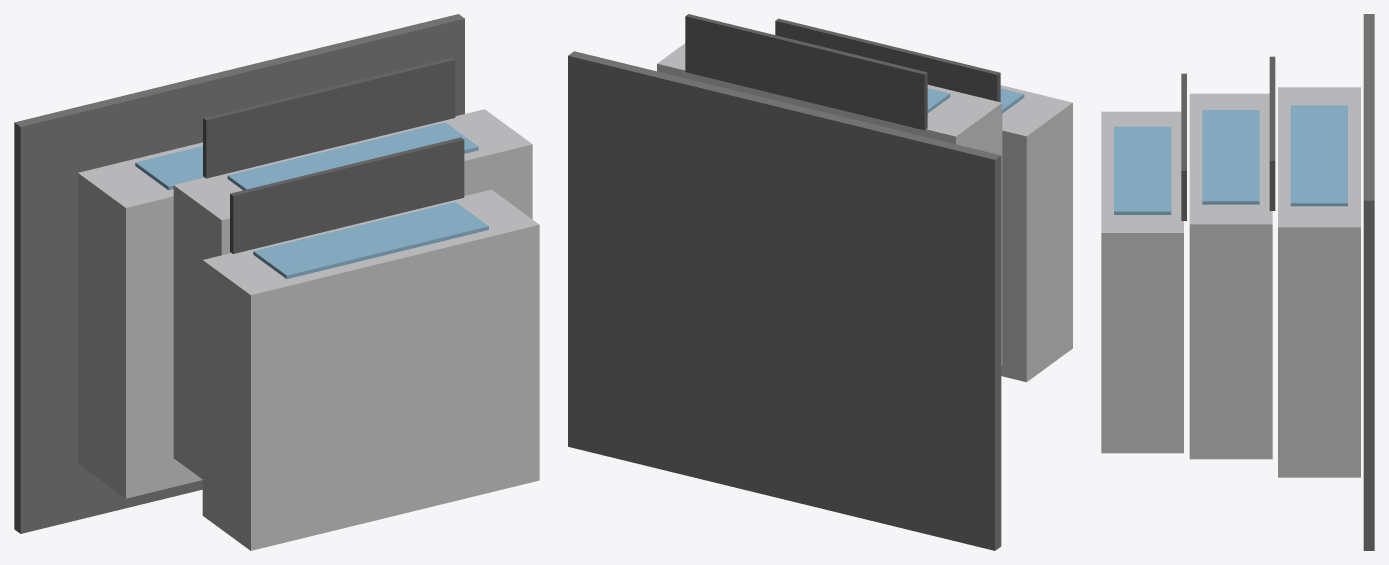
The picture shows the model from 3 angles, left to right: view 1: azimuth 30°, elevation 25°; view 2: azimuth 150°, elevation 25°; view 3: azimuth 270°, elevation 25°; orthographic projection. The views are drawn at different scales.
Parts seen in each view (by area): view 1: geometry_6, geometry_0, geometry_1, geometry_3, geometry_5, geometry_8, geometry_7, geometry_4, geometry_2; view 2: geometry_0, geometry_6, geometry_5, geometry_3, geometry_8; view 3: geometry_1, geometry_3, geometry_6, geometry_0, geometry_2, geometry_4, geometry_7, geometry_5, geometry_8.
Boxes of the visible parts, x1,y1,x2,y2 form: geometry_6: [202, 189, 539, 550]; geometry_0: [14, 14, 464, 533]; geometry_1: [78, 142, 202, 498]; geometry_3: [173, 109, 532, 478]; geometry_5: [203, 57, 455, 178]; geometry_8: [230, 137, 464, 253]; geometry_7: [253, 202, 488, 278]; geometry_4: [227, 122, 478, 190]; geometry_2: [135, 146, 204, 190]; geometry_0: [568, 51, 1001, 550]; geometry_6: [1000, 85, 1072, 382]; geometry_5: [685, 14, 927, 130]; geometry_3: [657, 43, 1002, 365]; geometry_8: [775, 18, 1000, 102]; geometry_1: [1278, 87, 1360, 477]; geometry_3: [1189, 93, 1272, 459]; geometry_6: [1101, 111, 1183, 453]; geometry_0: [1363, 14, 1374, 550]; geometry_2: [1290, 105, 1347, 206]; geometry_4: [1202, 110, 1259, 204]; geometry_7: [1114, 126, 1171, 214]; geometry_5: [1269, 56, 1275, 210]; geometry_8: [1181, 73, 1186, 220].
Bounding box in the file's own units: 16 × 14.5 × 9.9.
